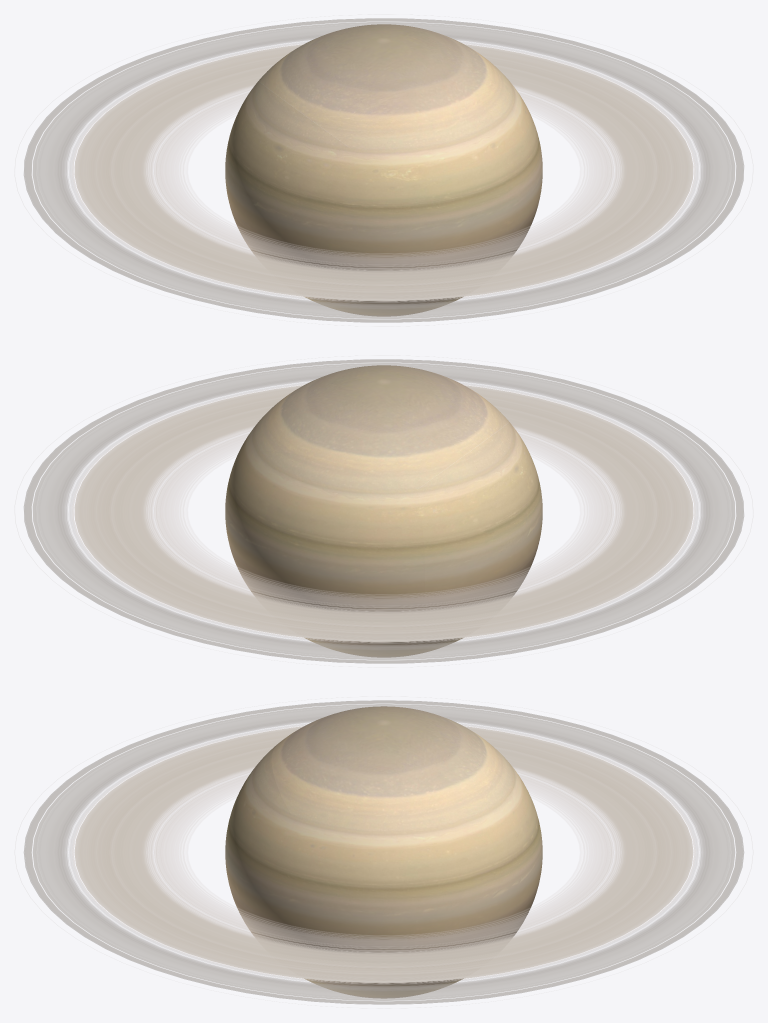
File: saturn.glb
The picture shows the model from 3 angles, top to bottom: view 1: azimuth 30°, elevation 25°; view 2: azimuth 150°, elevation 25°; view 3: azimuth 270°, elevation 25°; orthographic projection.
Parts seen in each view (by area): view 1: Rings, Body; view 2: Rings, Body; view 3: Rings, Body.
Part boxes in pixels (x1,y1,x2,y2): Rings: (23,18,744,322); Body: (225,24,542,316); Rings: (23,359,744,663); Body: (225,365,542,657); Rings: (23,700,744,1004); Body: (225,706,542,998).
Size of the model in its own units: 4.66 by 1.8 by 4.66.
2 materials, 2 textured.
